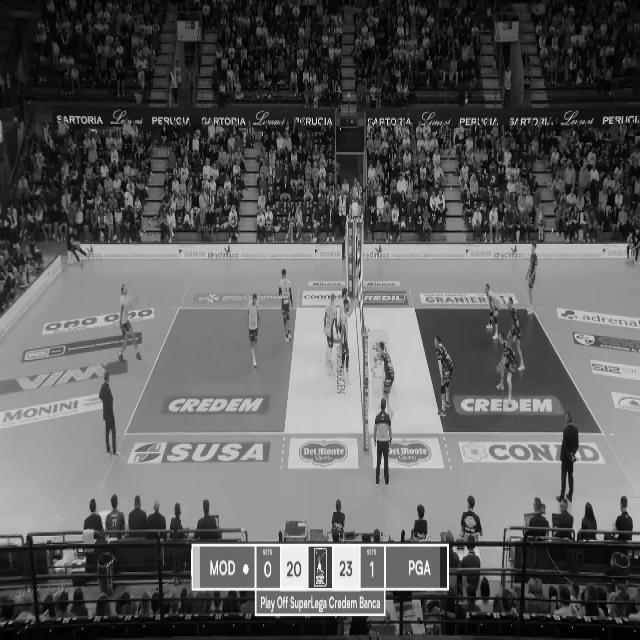volleyball court: (126, 310, 602, 435)
